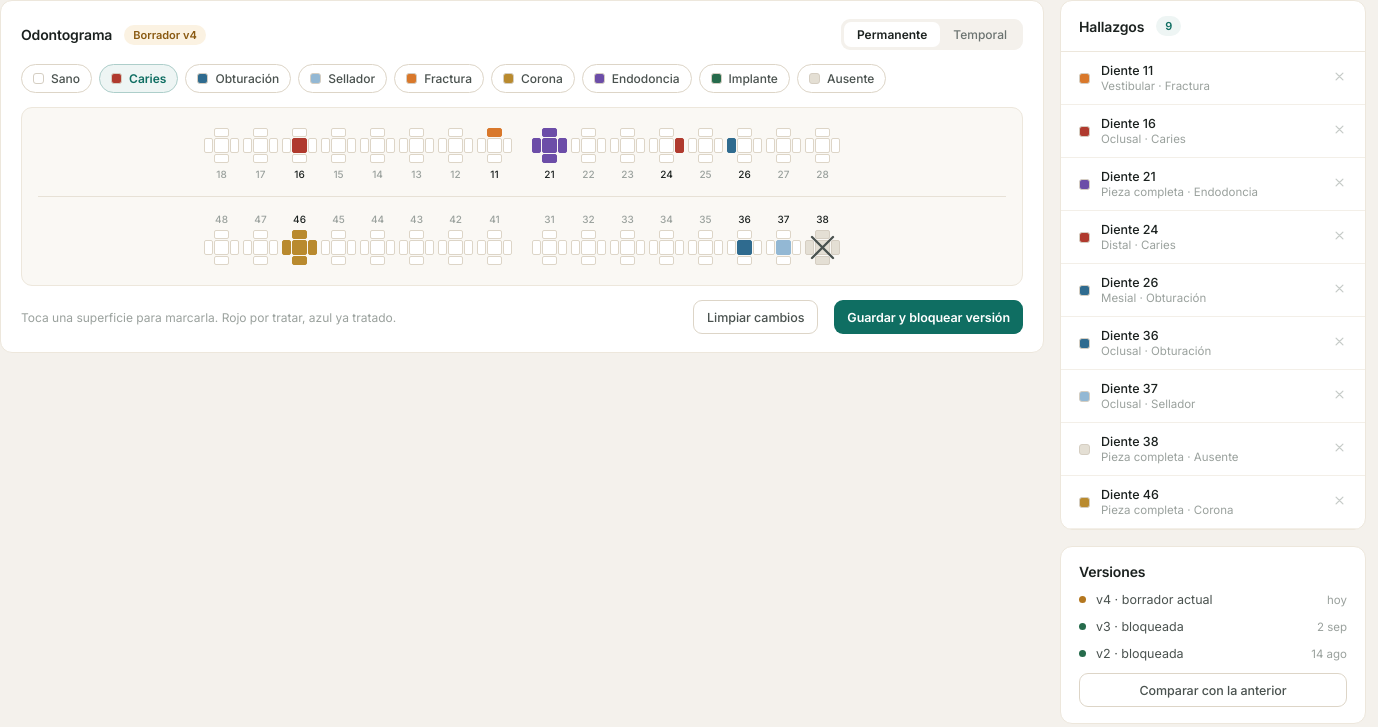
<Odontogram /> › marks a surface with the selected tool
Click the radio button labelled "Obturación" at (238, 78), box [186,64,291,93]
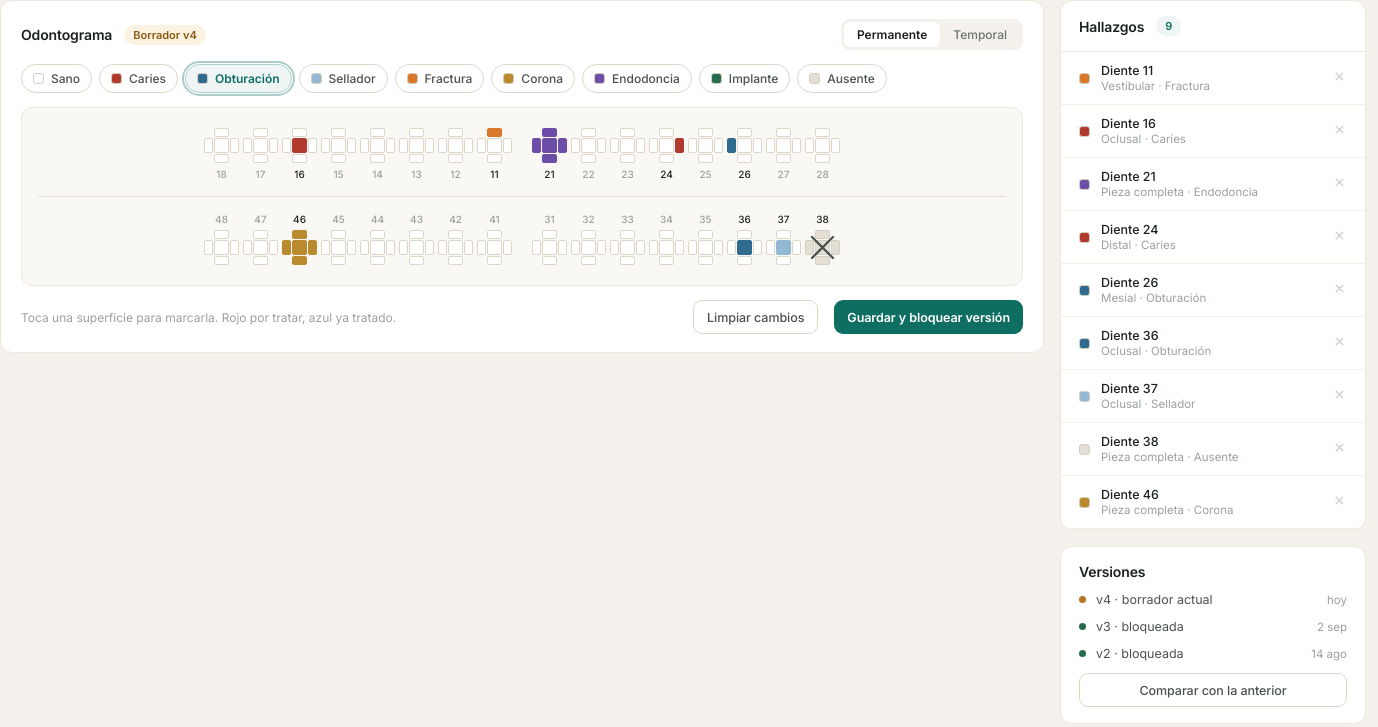
Click the button named "Diente 15, Vestibular" at (338, 132), box [331,128,346,137]
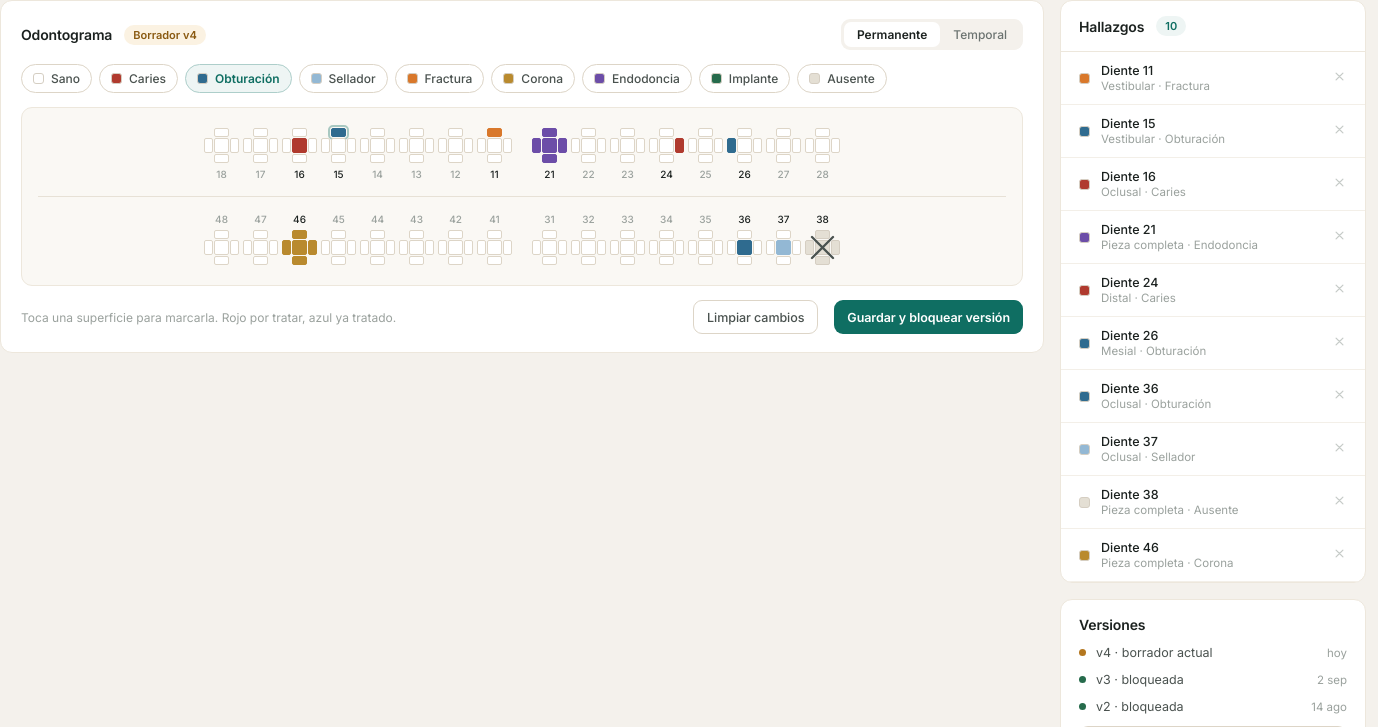
Expected: the text "Vestibular · Obturación" is shown, [1101,132,1225,146]
